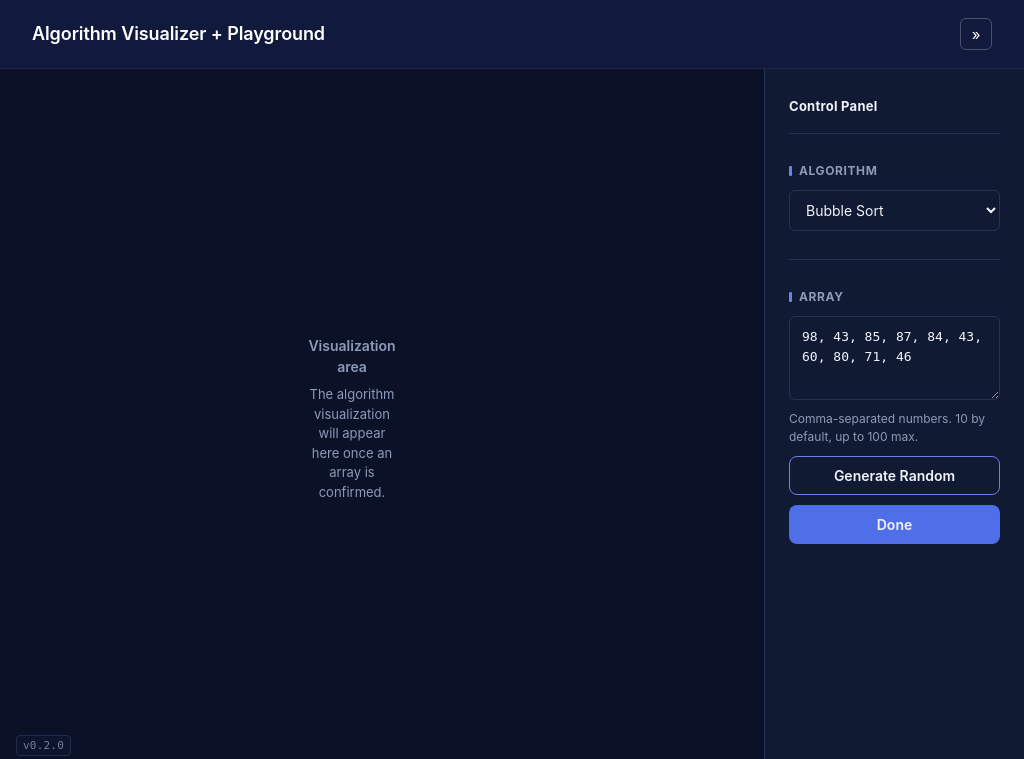
Test case: App — Statistics Panel placement › Statistics is rendered inside the main visualization region
The image size is (1024, 759).
Replace the text in the text box labelled "Array" with "8, 3, 5, 1" at (894, 358), box [789,316,1000,400]
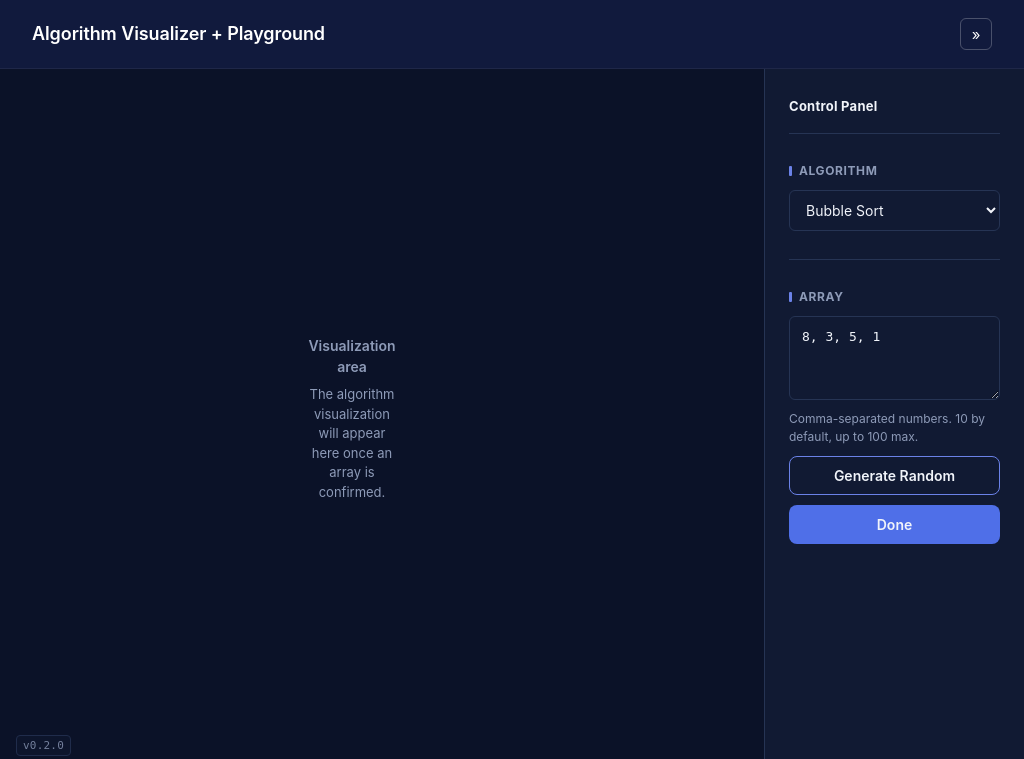
Click the button "Done" at (894, 524), box [789,505,1000,544]
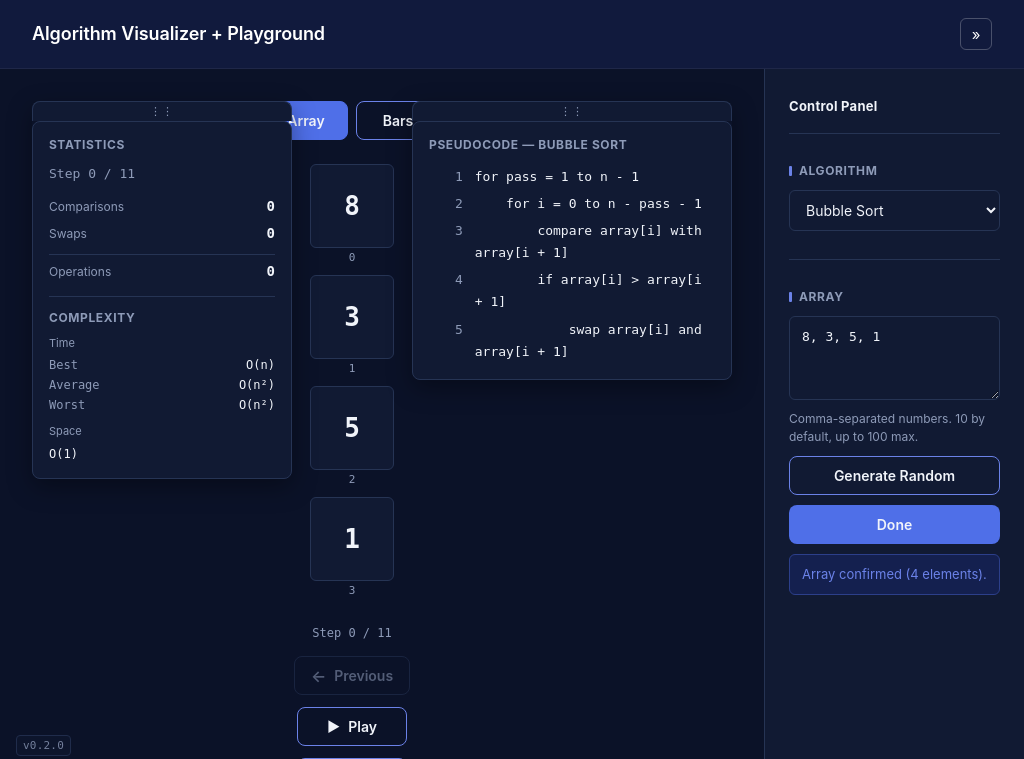
Now the element with class "statistics-panel" is shown, box [32,121,292,478]
